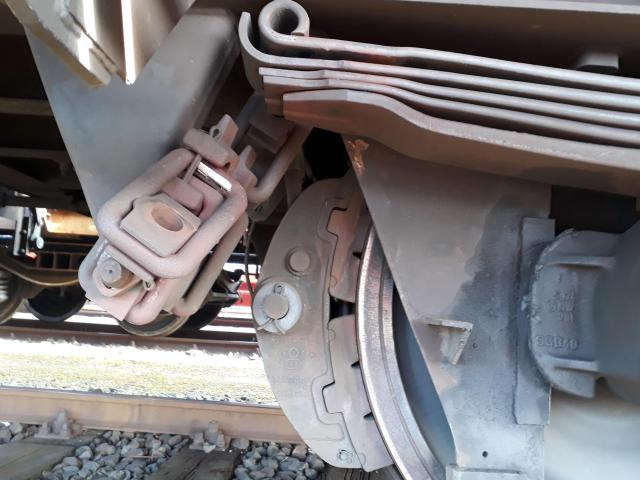blattfederww: (223, 4, 640, 176)
